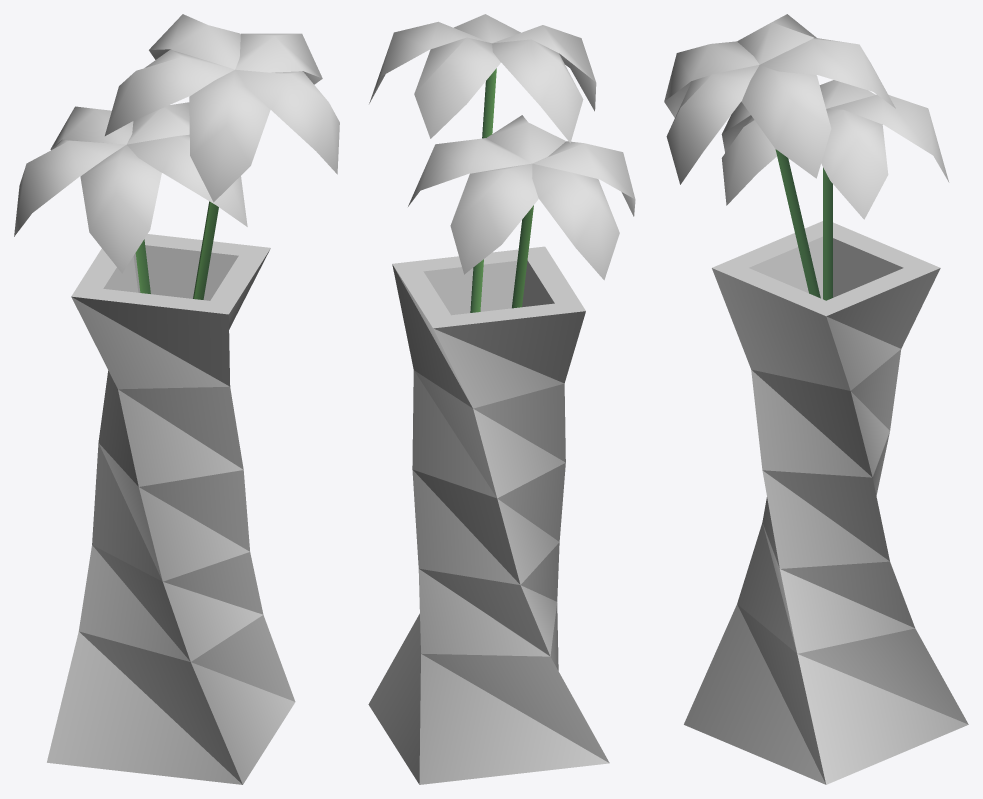
The model's file is Interior Item 02.fbx.
3 views of the same model, side by side, from view 1: azimuth 30°, elevation 25°; view 2: azimuth 150°, elevation 25°; view 3: azimuth 270°, elevation 25° (orthographic). The views are drawn at different scales.
Parts seen in each view (by area): view 1: Interior Item 02; view 2: Interior Item 02; view 3: Interior Item 02.
Part boxes in pixels (box(x1,y1,x2,y2)): Interior Item 02: box(14, 14, 339, 784); Interior Item 02: box(368, 14, 635, 784); Interior Item 02: box(664, 14, 968, 784).
Bounding box in the file's own units: 16.29 × 41.12 × 16.22.
